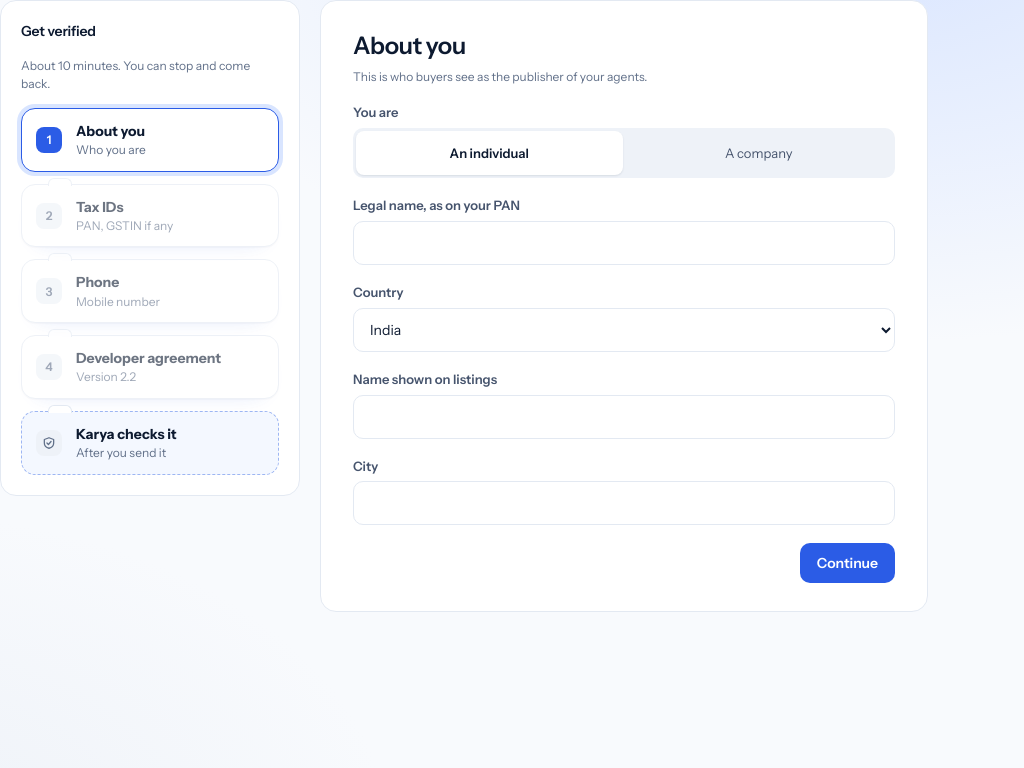
Scenario: asks for each missing About-you field and saves nothing
The image size is (1024, 768).
Step 1. Click the button "Continue" → [847, 563], box [800, 543, 895, 583]
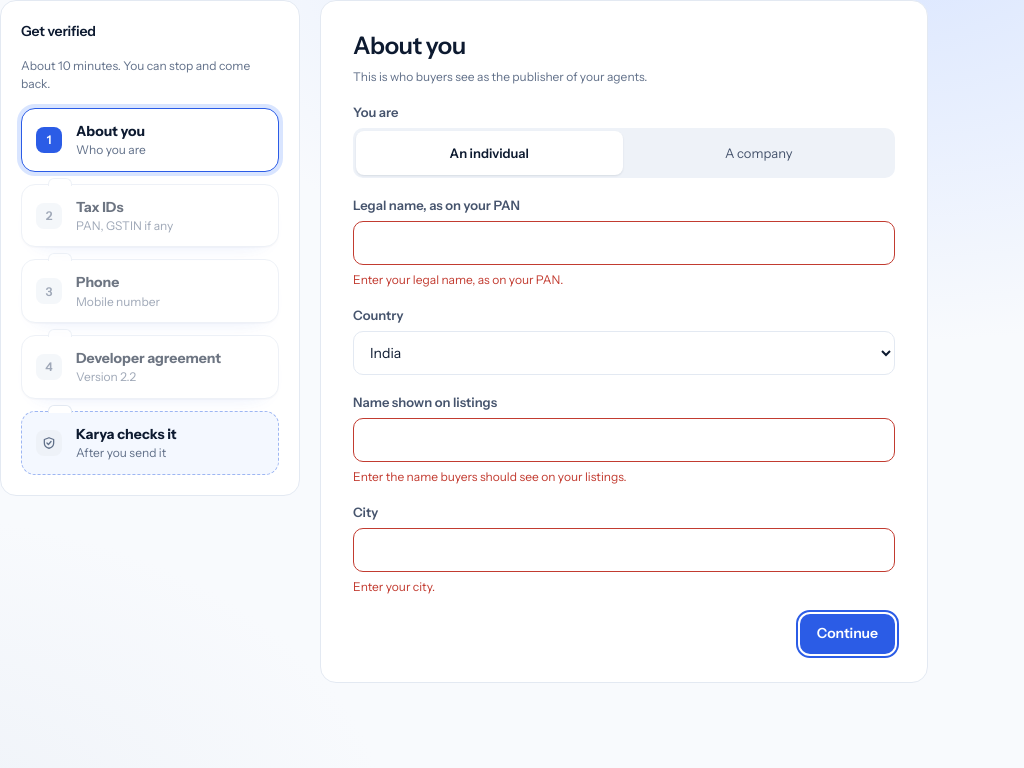
Expected: the text "Enter your legal name, as on your PAN." is shown, [353, 272, 563, 287]
Expected: the text "Enter the name buyers should see on your listings." is shown, [353, 469, 627, 484]
Expected: the text "Enter your city." is shown, [353, 579, 435, 594]
